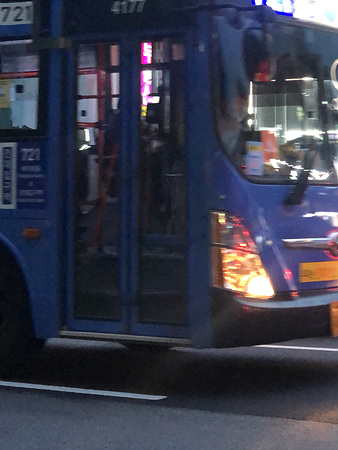entrance: (63, 32, 201, 341)
